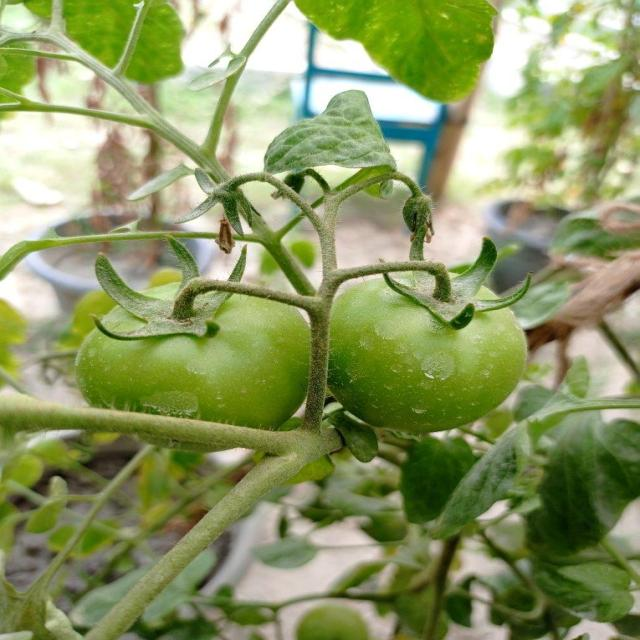Unripe: (72, 277, 316, 442), (320, 270, 524, 433)
